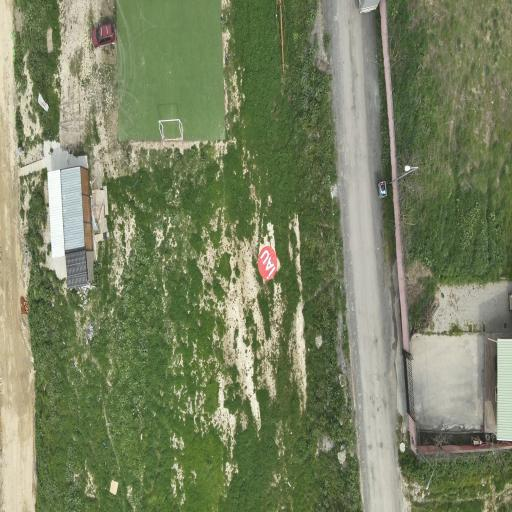UAI: (258, 246, 278, 281)
car: (92, 23, 116, 48)
